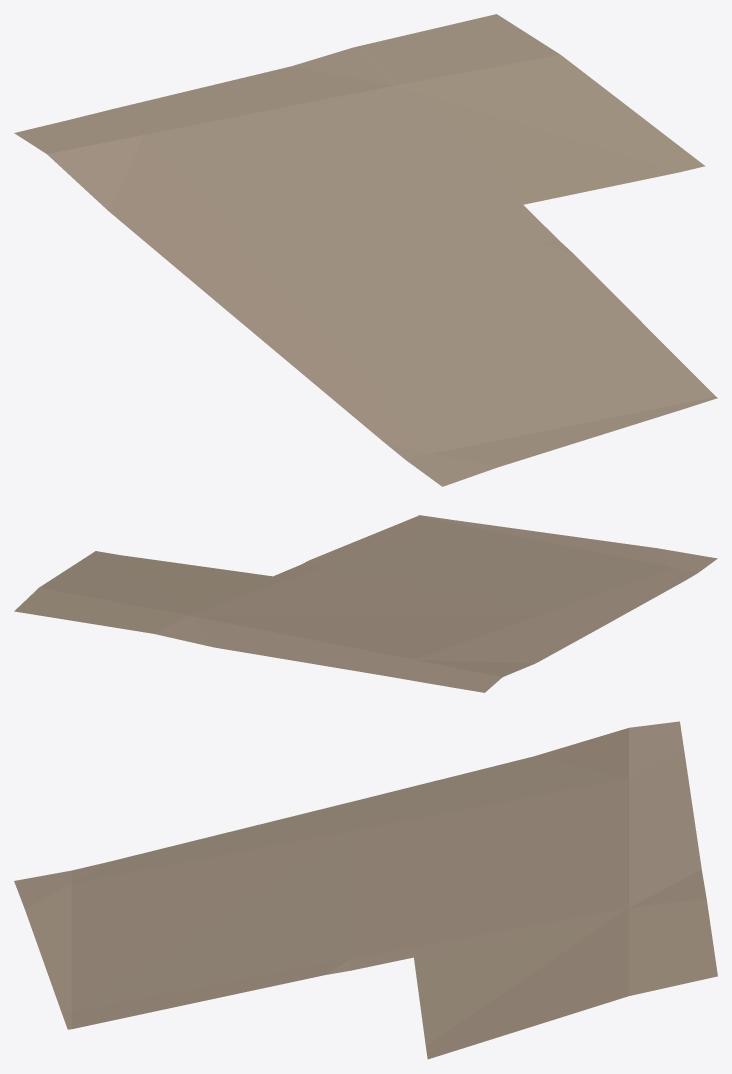
The model's file is farm_3_19_soil.glb.
The picture shows the model from 3 angles, top to bottom: view 1: azimuth 30°, elevation 25°; view 2: azimuth 150°, elevation 25°; view 3: azimuth 270°, elevation 25°; orthographic projection. The views are drawn at different scales.
Visible parts, largest first — view 1: geometry_0; view 2: geometry_0; view 3: geometry_0.
Boxes of the visible parts, x1,y1,x2,y2 form: geometry_0: [14, 14, 717, 486]; geometry_0: [14, 515, 717, 692]; geometry_0: [14, 721, 717, 1059].
Bounding box in the file's own units: 180 × 39.49 × 202.
